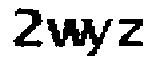2: (10, 5, 45, 49)
w: (47, 15, 88, 50)
y: (86, 13, 115, 60)
z: (115, 18, 148, 49)
